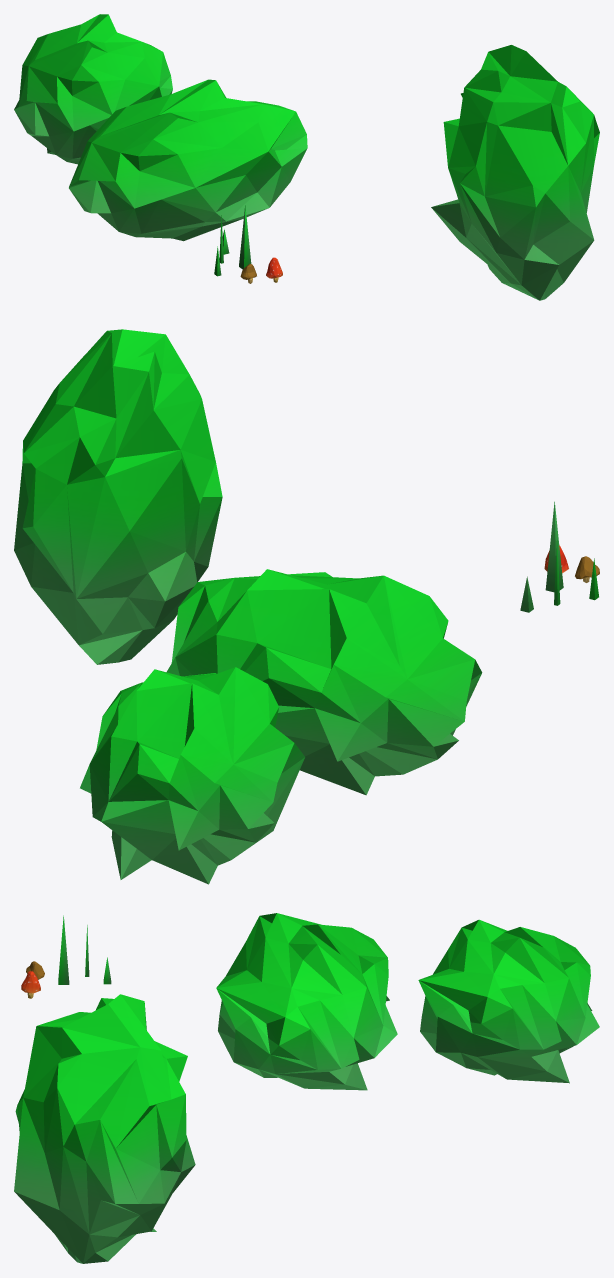
File: grass.FBX
The picture shows the model from 3 angles, top to bottom: view 1: azimuth 30°, elevation 25°; view 2: azimuth 150°, elevation 25°; view 3: azimuth 270°, elevation 25°; orthographic projection. The views are drawn at different scales.
Parts seen in each view (by area): view 1: Bush3, Bush2, Bush, Grass1; view 2: Bush3, Bush2, Bush, Grass1; view 3: Bush3, Bush2, Bush.
Boxes of the visible parts, box(x1,y1,x2,y2) form: Bush3: box(431, 45, 599, 300); Bush2: box(69, 79, 307, 241); Bush: box(14, 14, 172, 164); Grass1: box(239, 205, 251, 269); Bush3: box(14, 329, 222, 664); Bush2: box(166, 569, 482, 795); Bush: box(80, 667, 304, 884); Grass1: box(545, 501, 563, 592); Bush3: box(14, 994, 195, 1263); Bush2: box(216, 913, 397, 1090); Bush: box(418, 919, 599, 1083).
Size of the model in its own units: 171 by 95.14 by 194.
